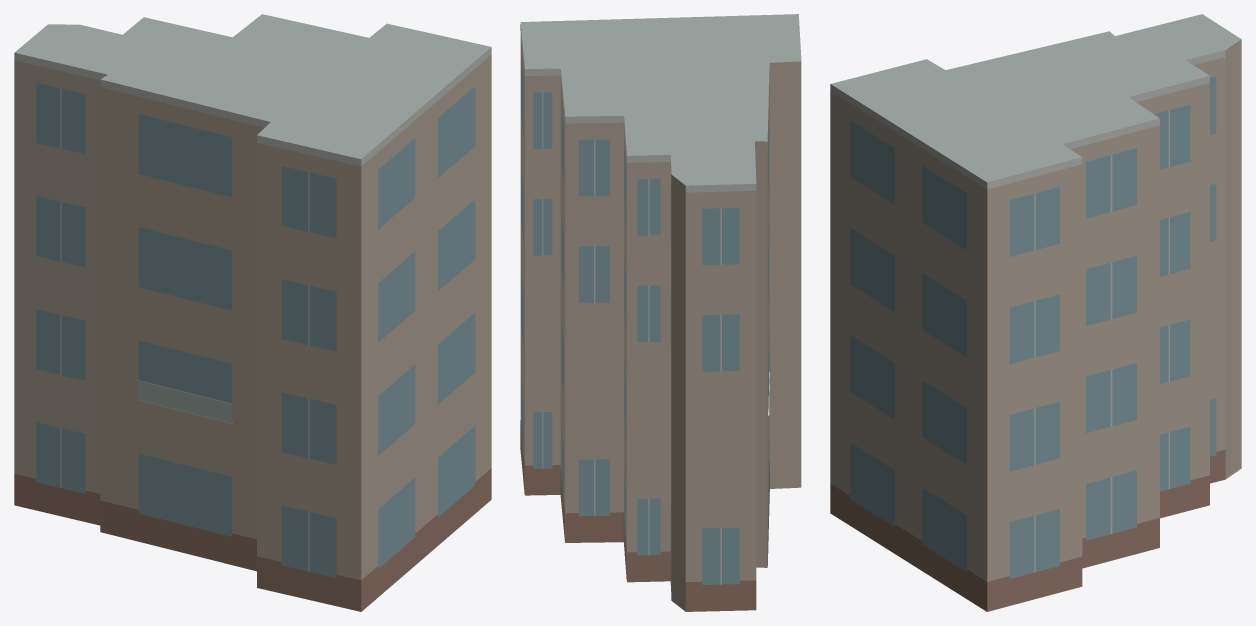
Rendered from survey-upis-32896052.glb.
The picture shows the model from 3 angles, left to right: view 1: azimuth 30°, elevation 25°; view 2: azimuth 150°, elevation 25°; view 3: azimuth 270°, elevation 25°; orthographic projection. The views are drawn at different scales.
Parts seen in each view (by area): view 1: survey-upis-32896052.tmp; view 2: survey-upis-32896052.tmp; view 3: survey-upis-32896052.tmp.
Boxes of the visible parts, x1,y1,x2,y2 form: survey-upis-32896052.tmp: [14, 14, 491, 611]; survey-upis-32896052.tmp: [520, 14, 801, 611]; survey-upis-32896052.tmp: [830, 14, 1241, 611].
Size of the model in its own units: 12.55 by 14.9 by 12.94.
